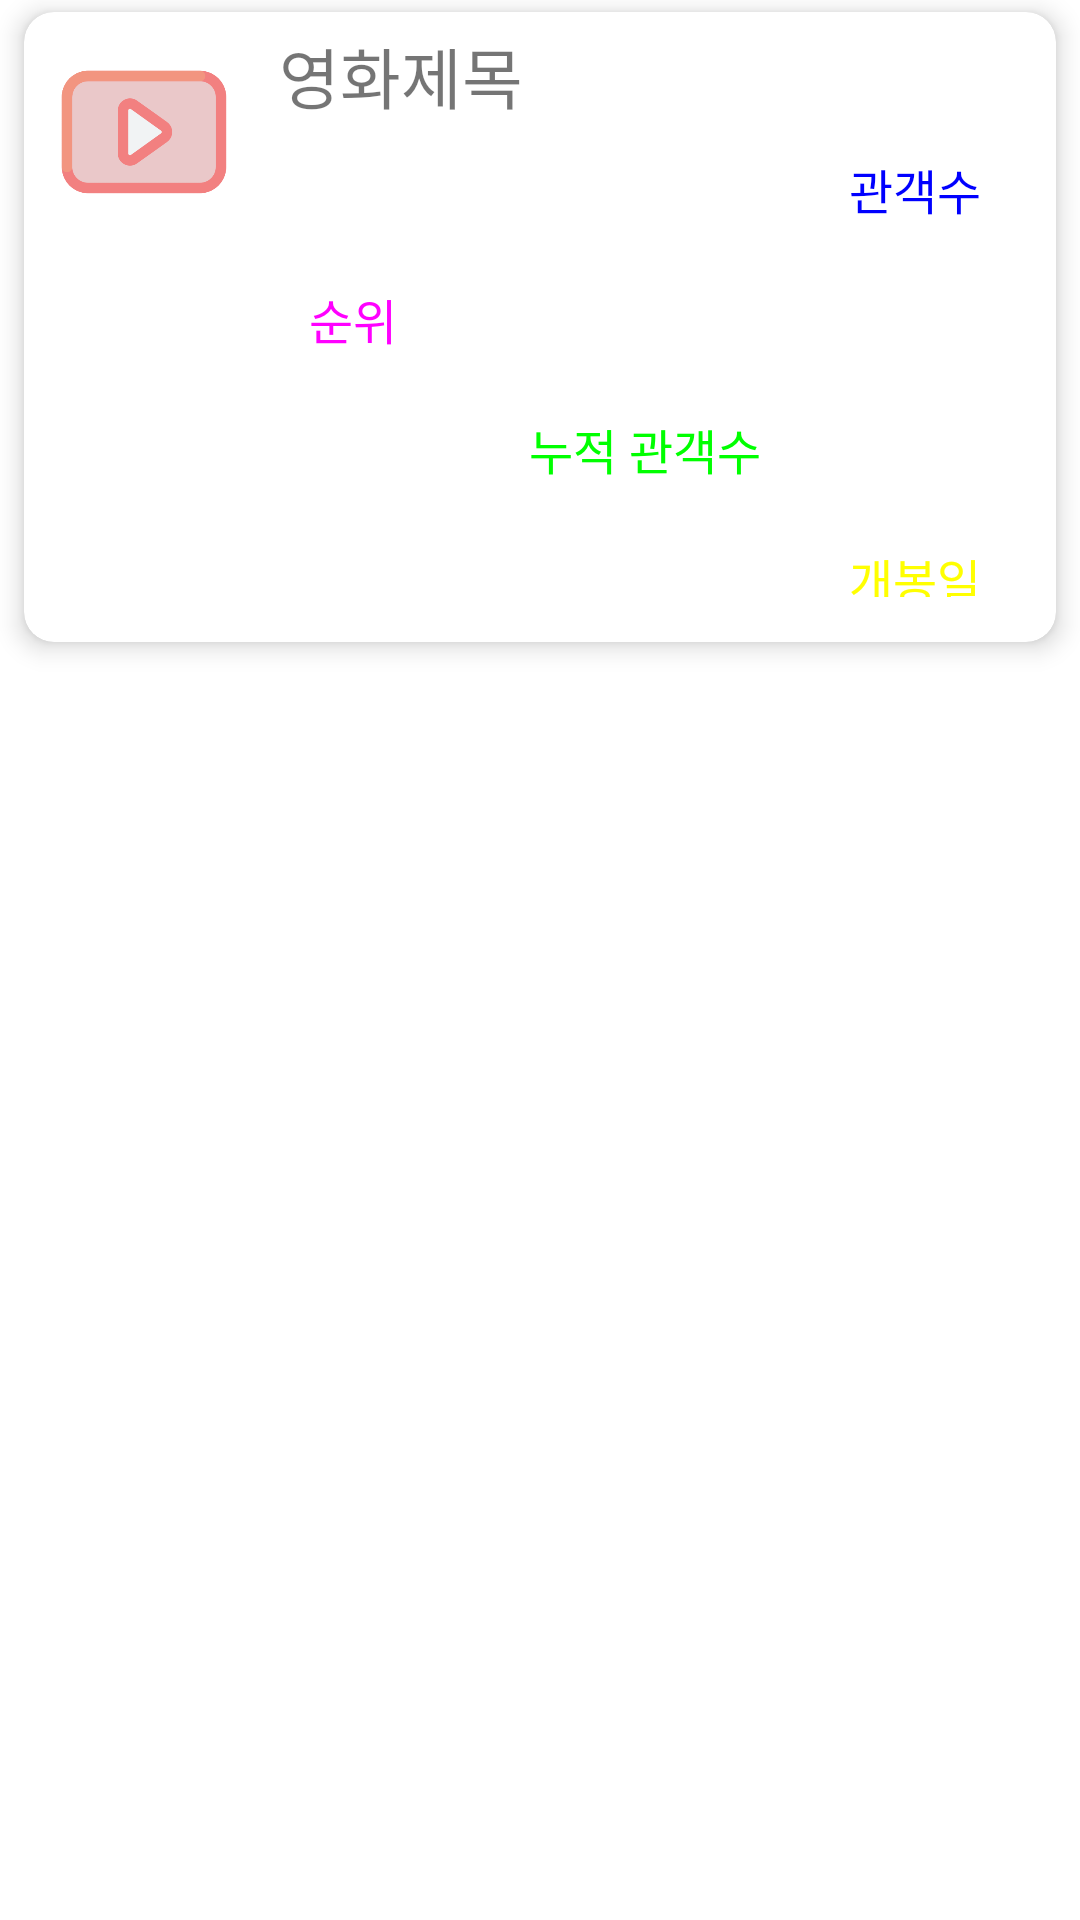

Icon bounding boxes for this 1080*1920 phone screenshot, format (x1, y1, x2, y2):
movie: (45, 12, 227, 193)
